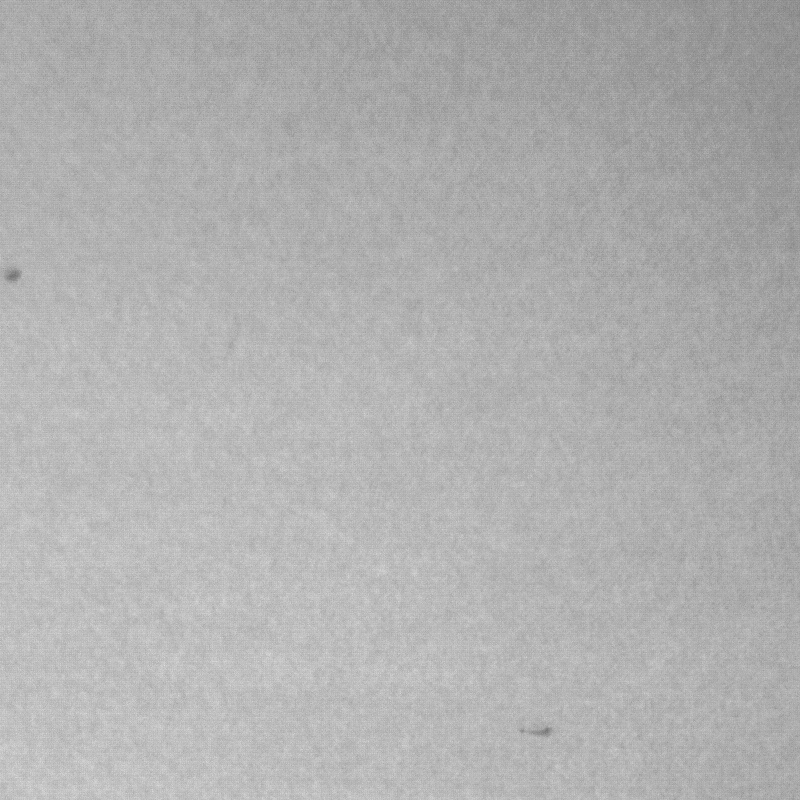defect: (512, 725, 555, 741), (6, 266, 23, 284)
